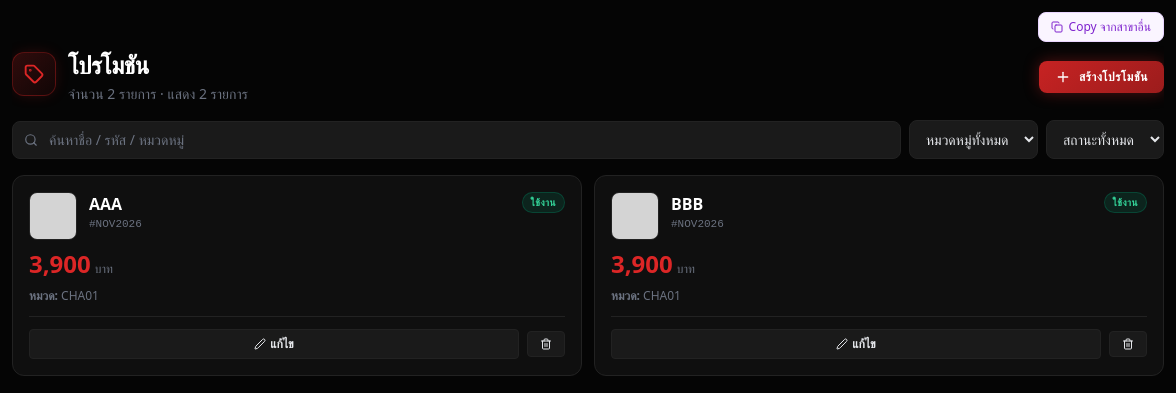
PromotionTab — cover_image rendering › C15 filtered list (search) hides promotions whose cover images are in pool
Check: the heading "AAA" is shown, box [89,193,122,215]
In the field with placeholder "ค้นหาชื่อ / รหัส / หมวดหมู่": (456, 140) [12,120,901,158], type "AAA"
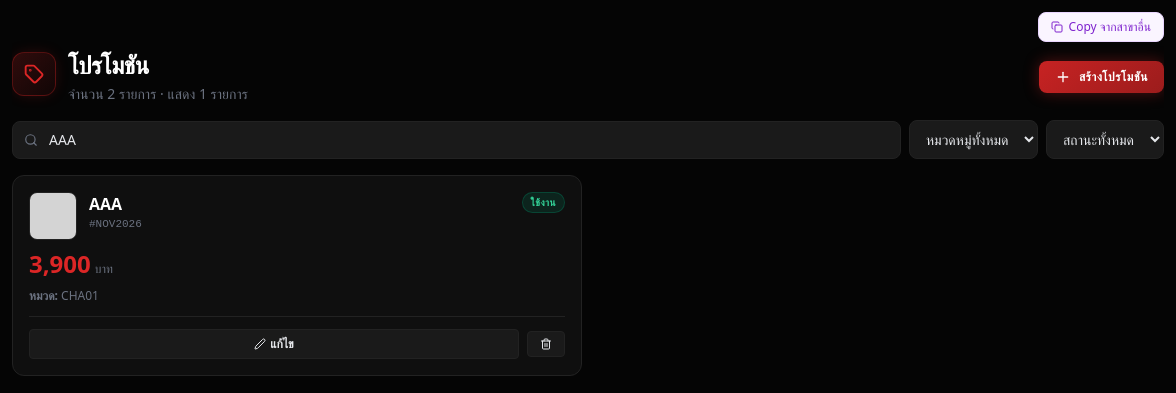
Check: the heading "BBB" is gone
